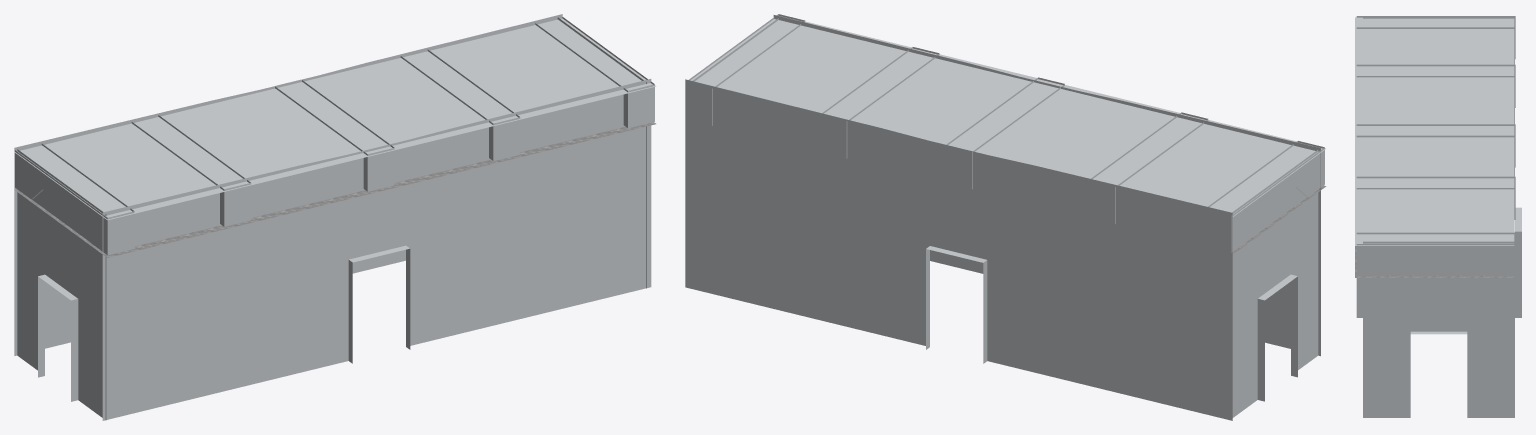
File: Tunnel2-V4.obj
The picture shows the model from 3 angles, left to right: view 1: azimuth 30°, elevation 25°; view 2: azimuth 150°, elevation 25°; view 3: azimuth 270°, elevation 25°; orthographic projection. The views are drawn at different scales.
Parts seen in each view (by area): view 1: Tunnel2-V4; view 2: Tunnel2-V4; view 3: Tunnel2-V4.
Boxes of the visible parts, x1,y1,x2,y2 form: Tunnel2-V4: (14, 14, 656, 420); Tunnel2-V4: (685, 14, 1326, 420); Tunnel2-V4: (1355, 16, 1521, 417).
Size of the model in its own units: 15.46 by 5.55 by 4.72.
